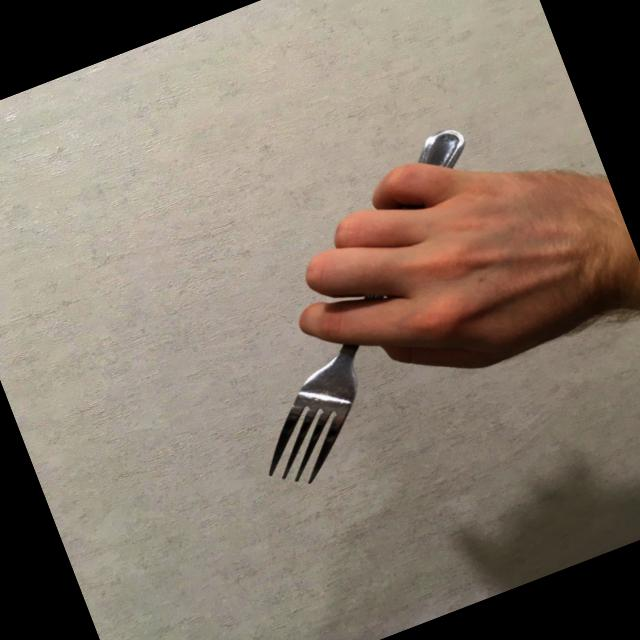fork: (175, 124, 560, 498)
